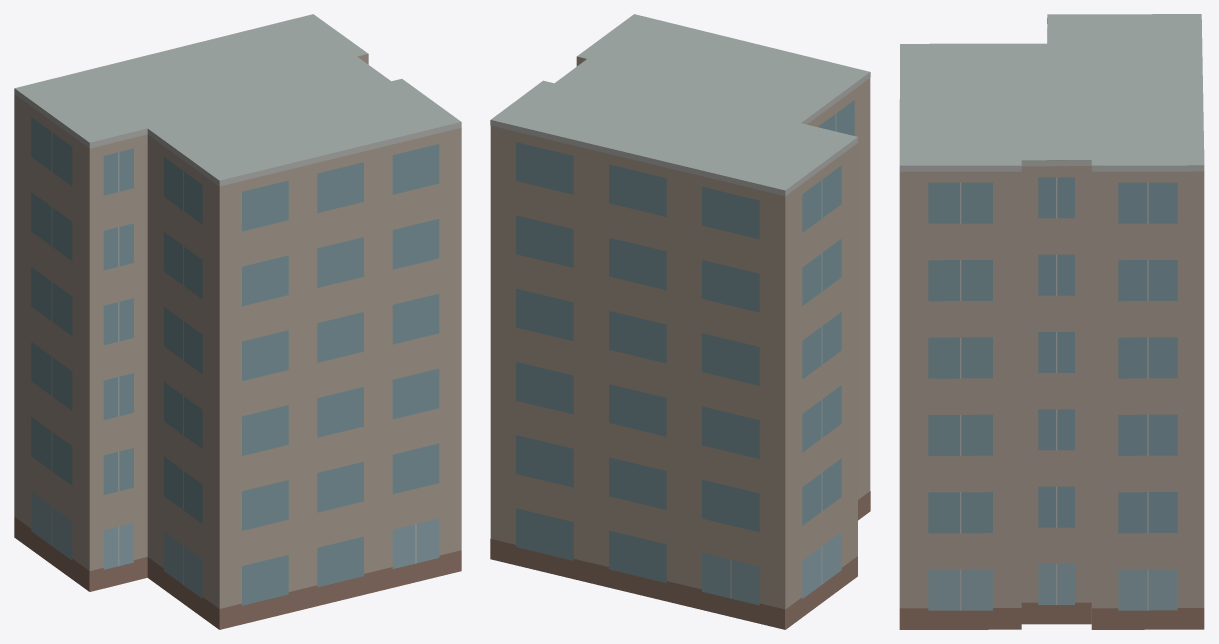
The model's file is survey-upis-33016700.glb.
The picture shows the model from 3 angles, left to right: view 1: azimuth 30°, elevation 25°; view 2: azimuth 150°, elevation 25°; view 3: azimuth 270°, elevation 25°; orthographic projection. The views are drawn at different scales.
Parts seen in each view (by area): view 1: survey-upis-33016700.tmp; view 2: survey-upis-33016700.tmp; view 3: survey-upis-33016700.tmp.
Boxes of the visible parts, x1,y1,x2,y2 form: survey-upis-33016700.tmp: (14, 14, 461, 629); survey-upis-33016700.tmp: (490, 14, 870, 629); survey-upis-33016700.tmp: (899, 14, 1204, 629).
Size of the model in its own units: 13.12 by 18.7 by 11.15.
